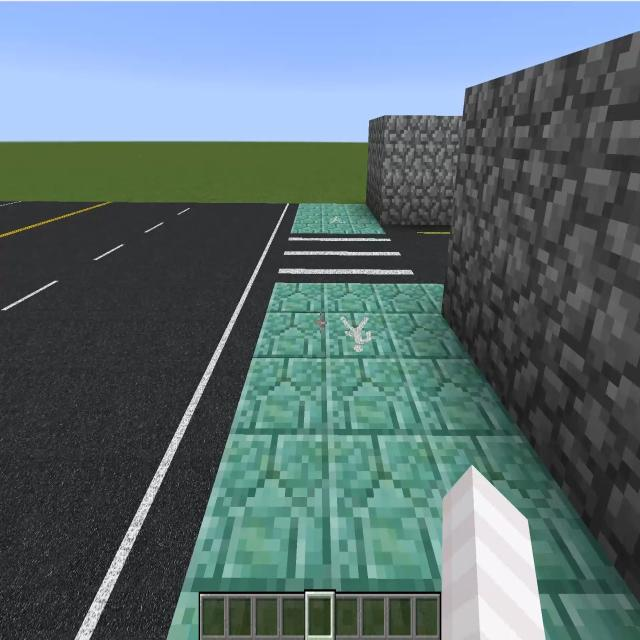crosswalk: (278, 228, 426, 277)
road: (1, 201, 295, 635), (397, 221, 450, 278)
sidewalk: (166, 281, 640, 639), (292, 204, 384, 235)
